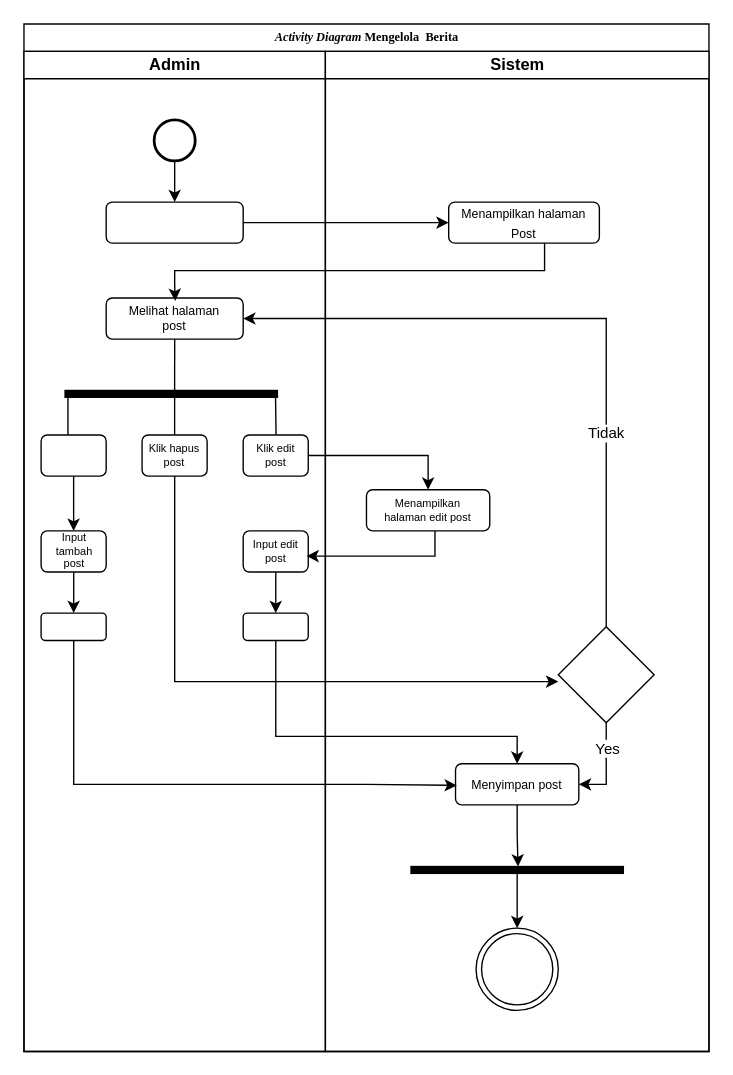
Some shapes in this 733 by 1075 pixel diagram are drawn without their labels. Here are the shapes that lost their labels. From the top down, the centre of each, then its label:
At (x=174, y=222): "Pilih Menu Post".
At (x=73, y=455): "Klik tambah post".
At (x=73, y=626): "Klik create".
At (x=275, y=626): "Klik save".
At (x=605, y=674): "Pilihan".
